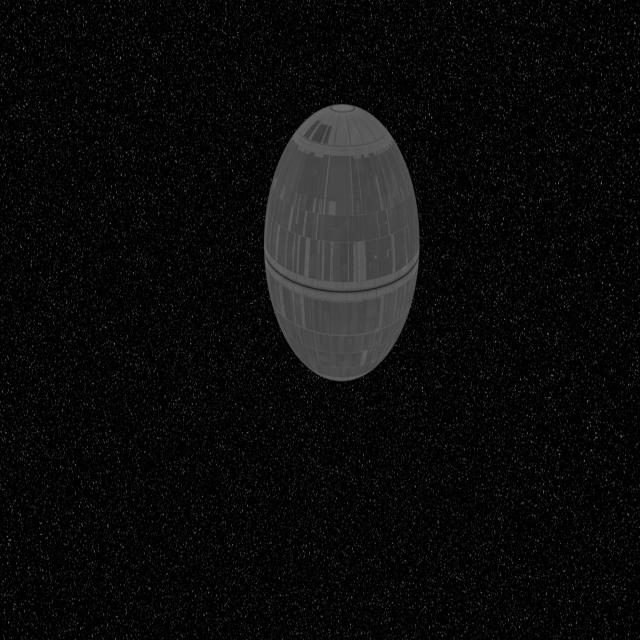death-stars: (263, 104, 420, 383)
